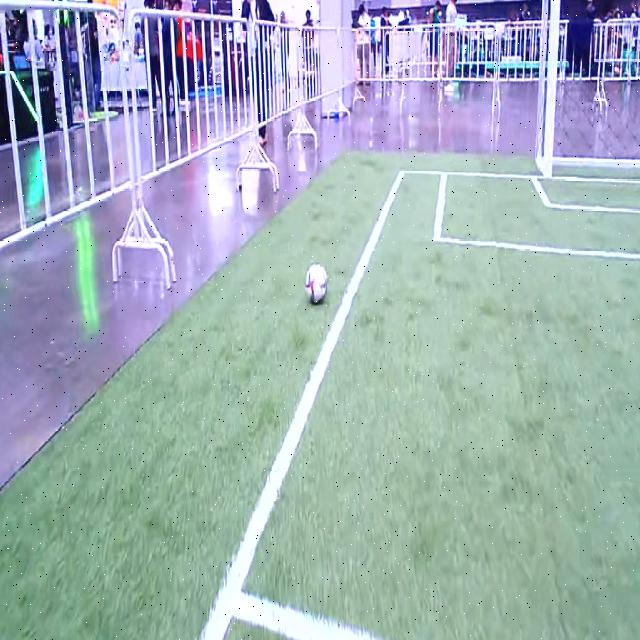ball: (305, 263, 328, 304)
